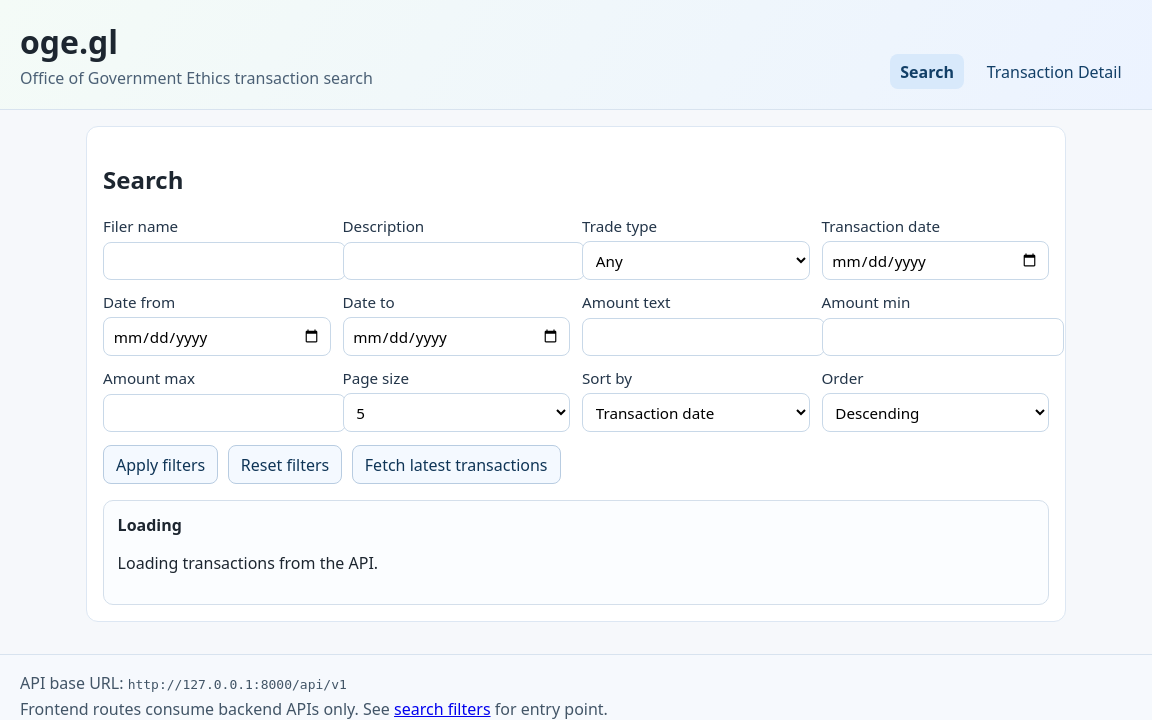
Test: frontend shell routing › disables the manual fetch control while request is pending
Click the button "Fetch latest transactions": click(456, 464) [352,445,560,484]
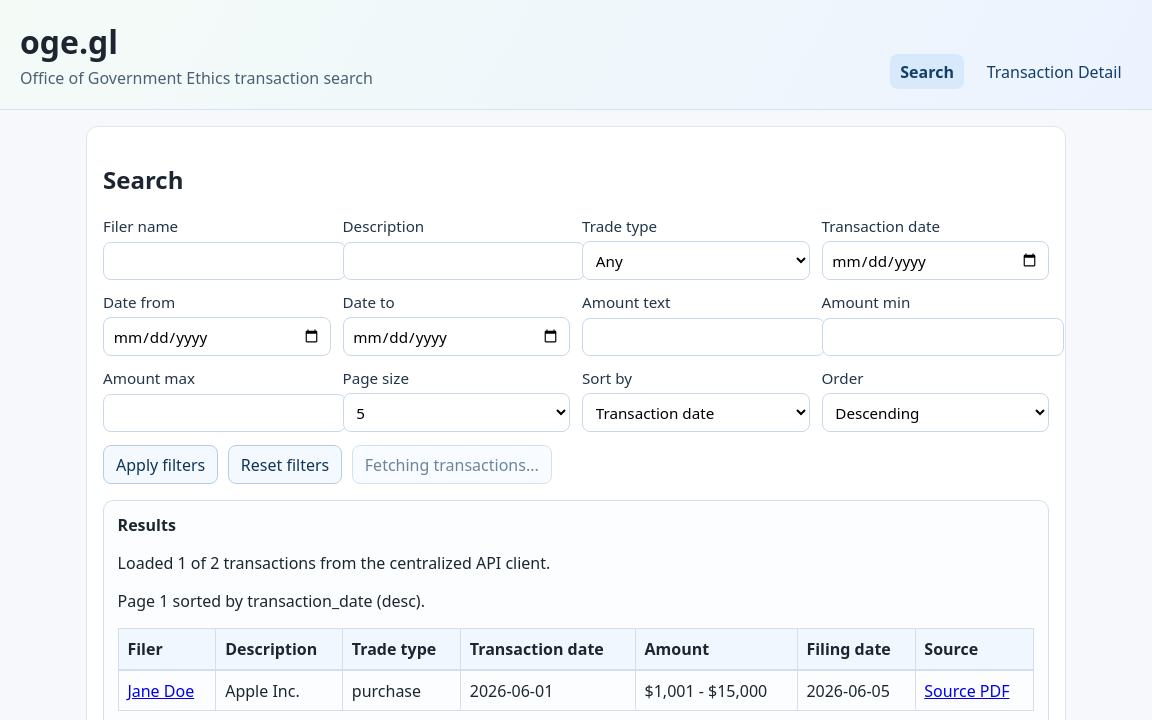
Result: the button "Fetching transactions..." is disabled at [352,445,552,484]
